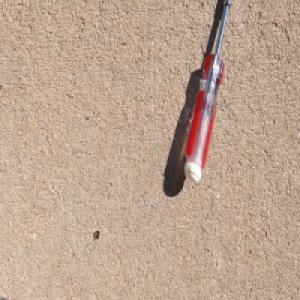Screwdriver: (181, 0, 233, 185)
